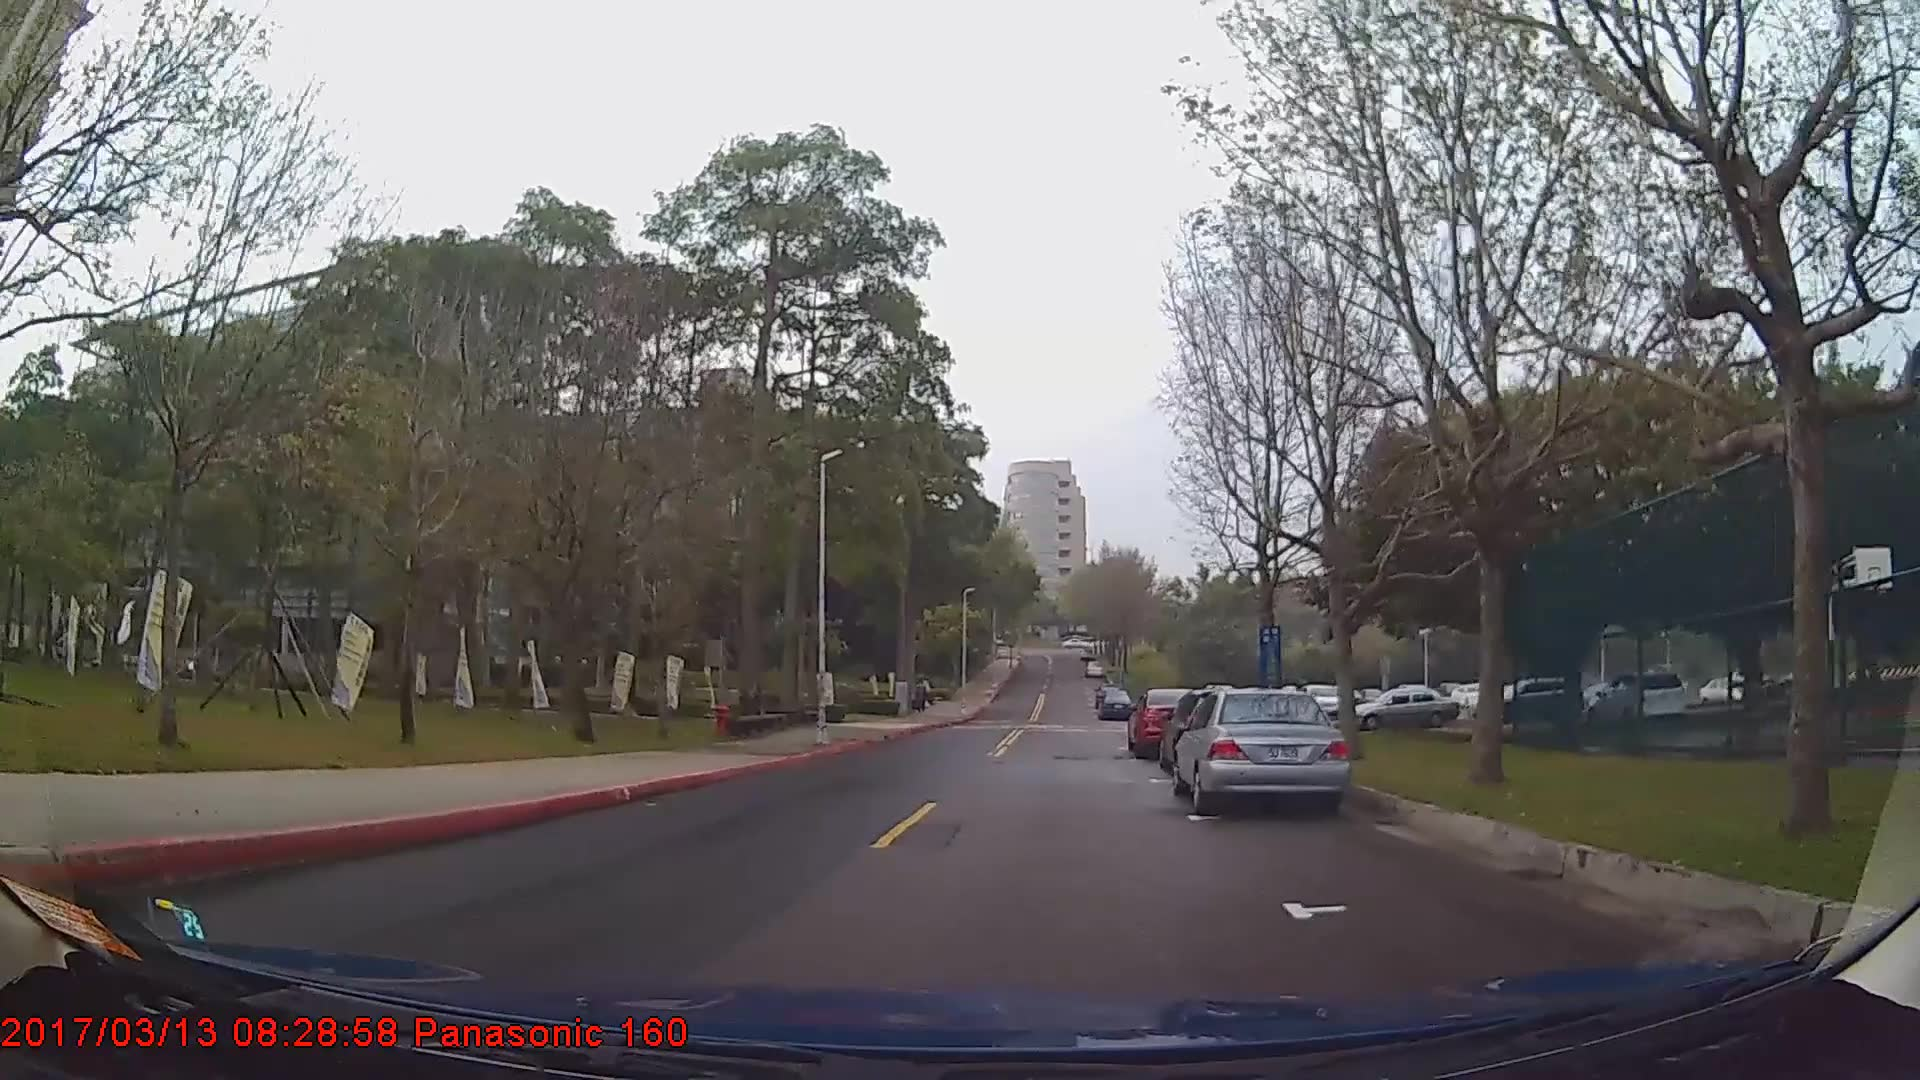vehicle: (1172, 687, 1349, 816), (1580, 669, 1687, 729), (1127, 686, 1216, 757), (1466, 674, 1585, 725), (1354, 683, 1458, 735), (1096, 688, 1131, 723)
